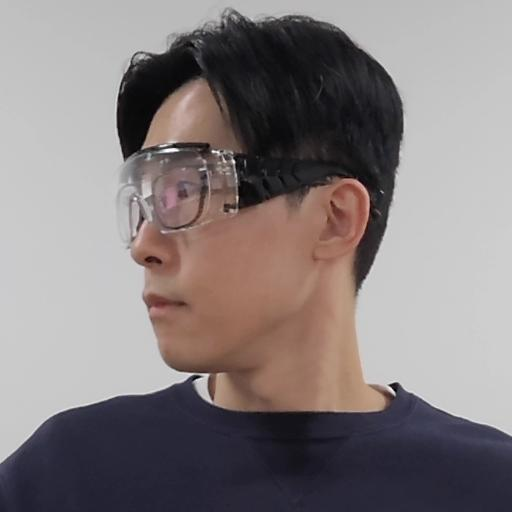glasses: (100, 28, 410, 357)
